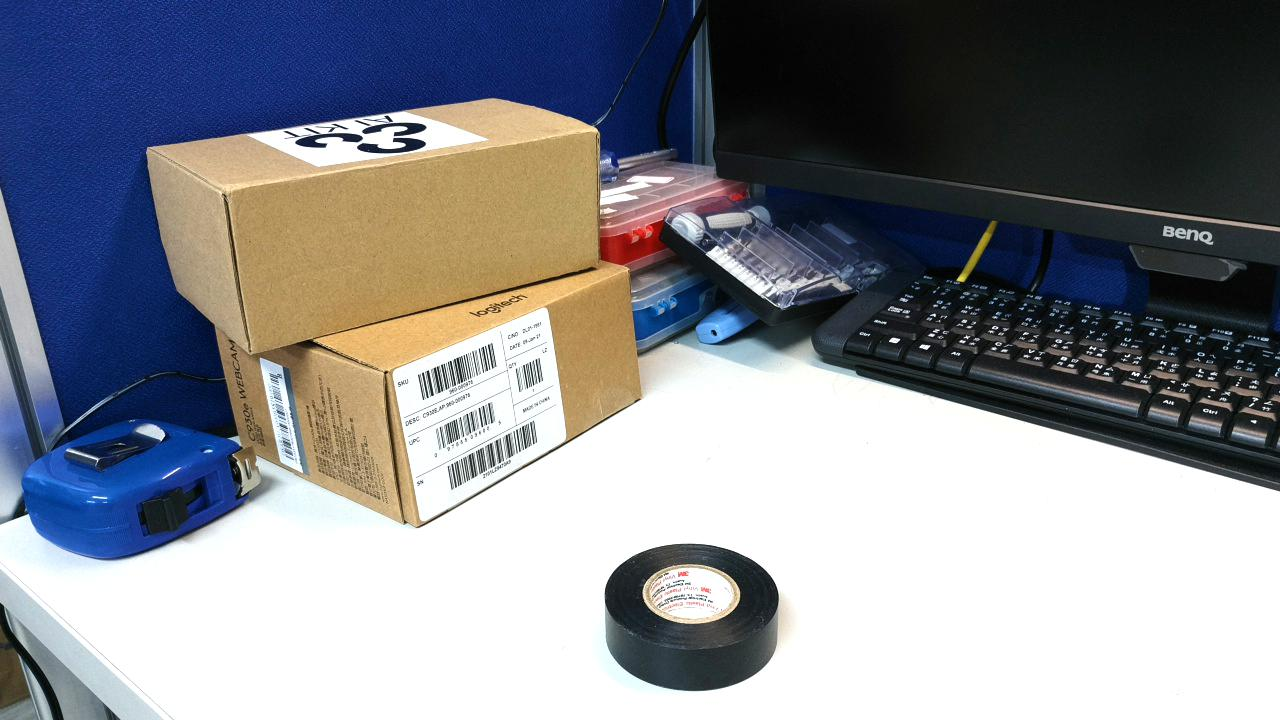columnar: (985, 208, 1163, 414), (1109, 267, 1207, 399)
